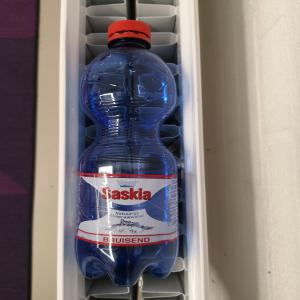Plastic-bottle: (75, 20, 181, 289)
